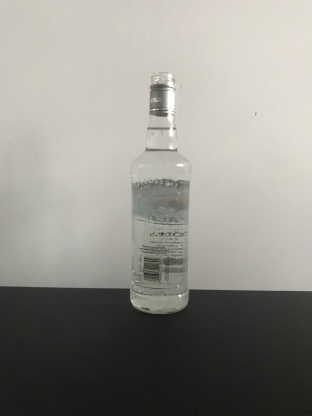nakretka: (147, 69, 177, 118)
